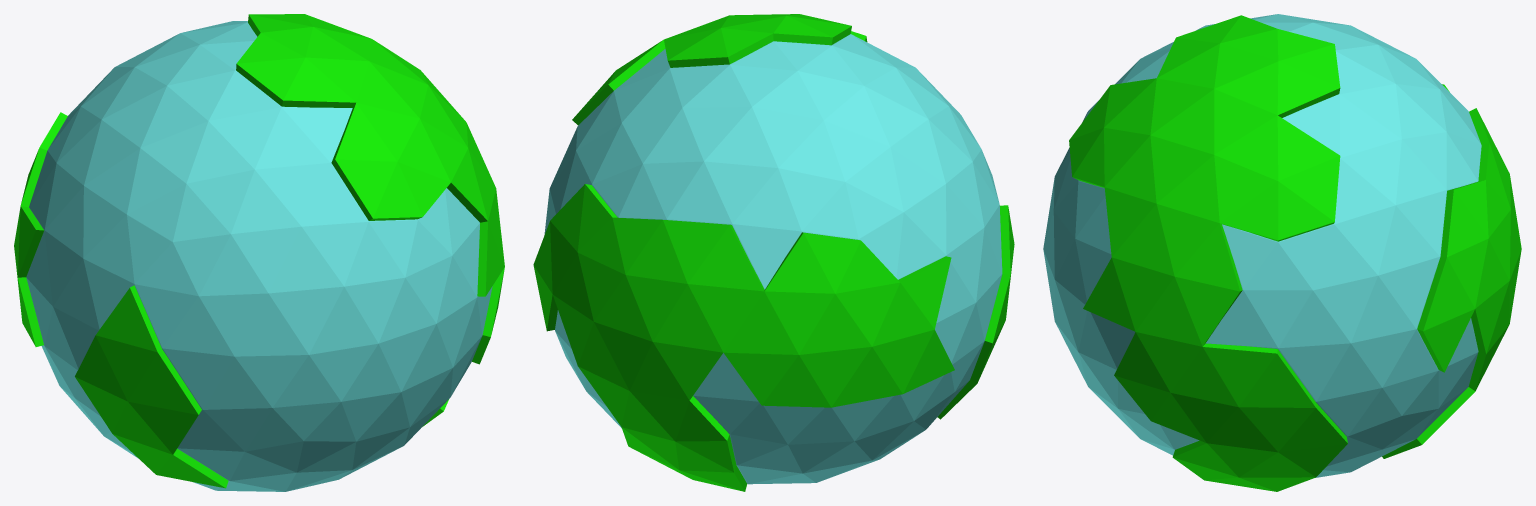
The model's file is Earth.fbx.
The picture shows the model from 3 angles, left to right: view 1: azimuth 30°, elevation 25°; view 2: azimuth 150°, elevation 25°; view 3: azimuth 270°, elevation 25°; orthographic projection.
Parts seen in each view (by area): view 1: Icosphere; view 2: Icosphere; view 3: Icosphere.
Boxes of the visible parts, x1,y1,x2,y2 form: Icosphere: [14, 14, 504, 491]; Icosphere: [533, 14, 1014, 491]; Icosphere: [1043, 14, 1521, 491].
Bounding box in the file's own units: 2.09 × 2.09 × 2.09.
